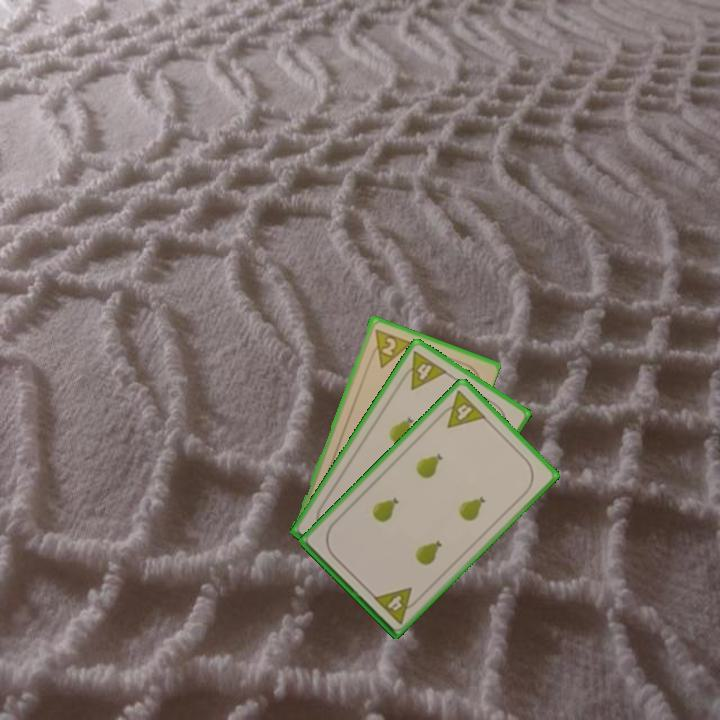2p: (366, 324, 413, 371)
4p: (396, 347, 450, 393), (434, 387, 489, 431), (370, 583, 423, 627)
